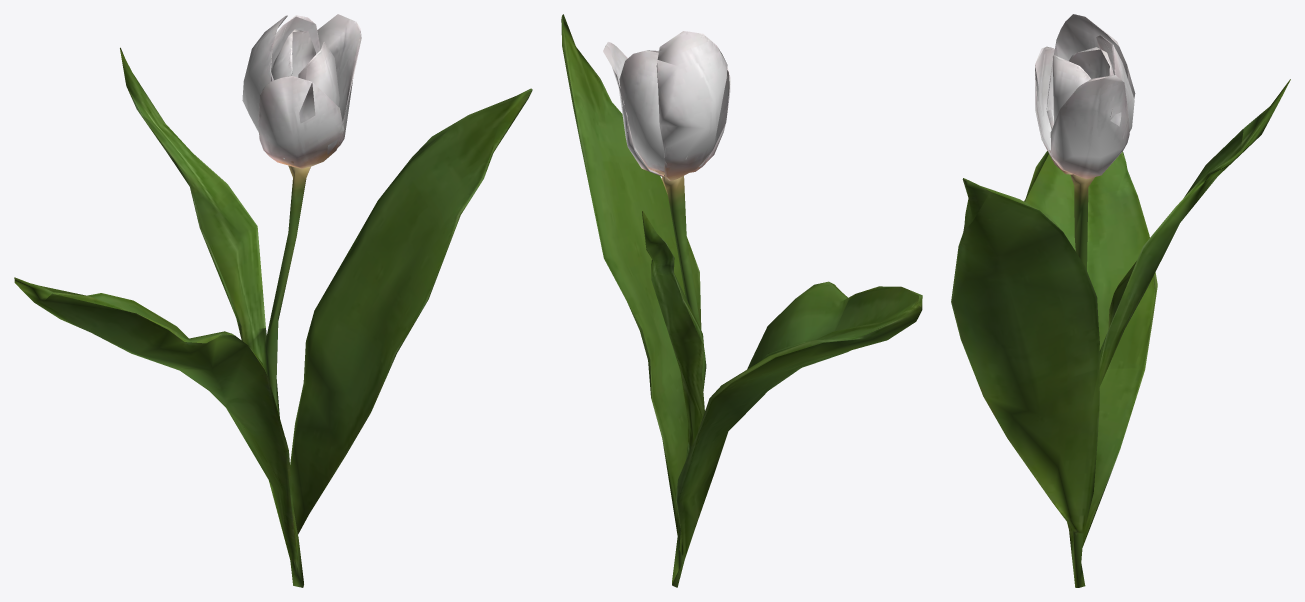
The model's file is lale-beyaz.glb.
3 renders of one model, left to right at view 1: azimuth 30°, elevation 25°; view 2: azimuth 150°, elevation 25°; view 3: azimuth 270°, elevation 25°, orthographic. The views are drawn at different scales.
Visible parts, largest first — view 1: Object_5; view 2: Object_5; view 3: Object_5.
Boxes of the visible parts, x1,y1,x2,y2 form: Object_5: (14,14,532,587); Object_5: (561,14,922,587); Object_5: (951,14,1290,587).
Bounding box in the file's own units: 0.0296 × 0.0366 × 0.0199.
1 material, 1 textured.
